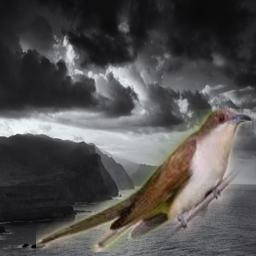Cuckoo: (36, 109, 252, 252)
